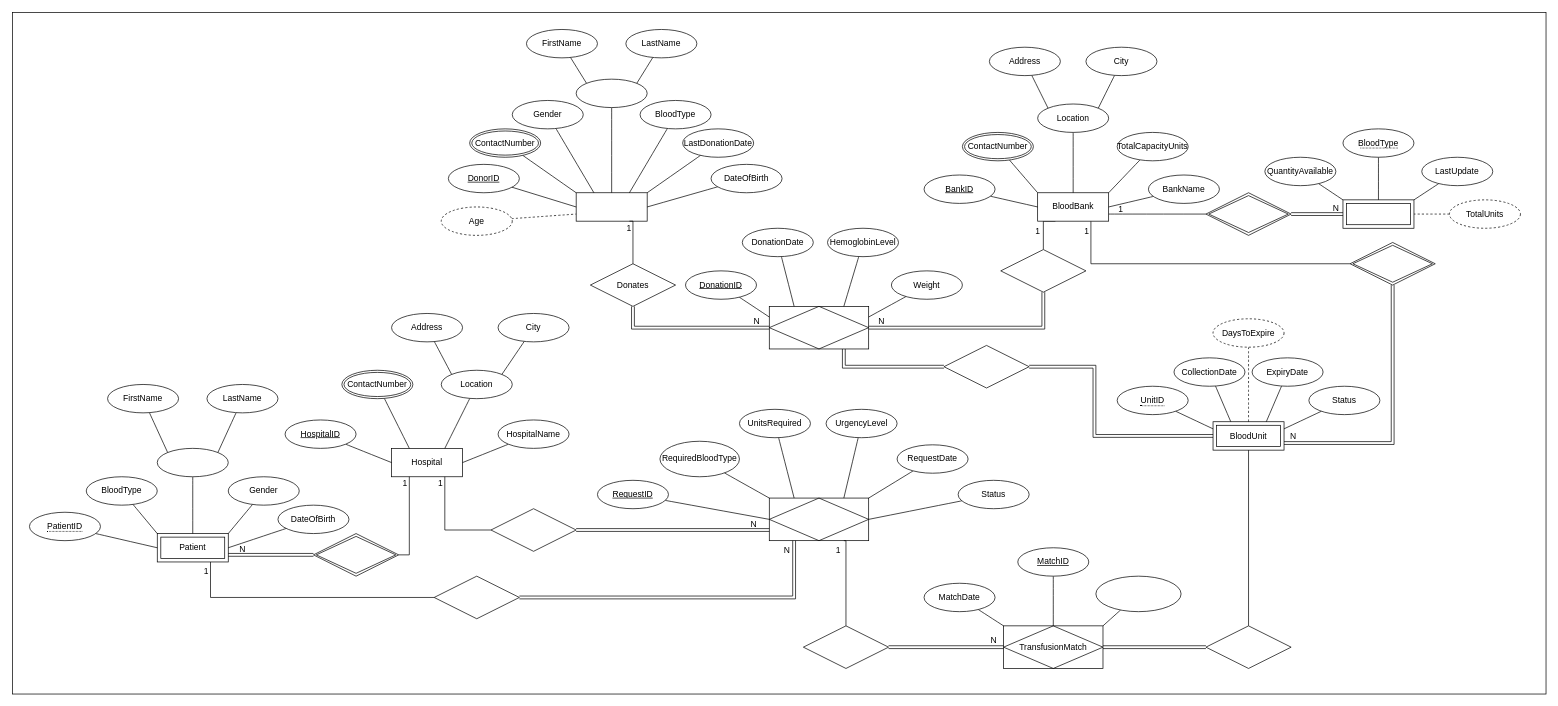
Image size: 1558x706. Some labels were removed from this diagram. Each missing label, with the box of its shape:
Admits: (313, 533, 399, 576)
Assigned_To: (1205, 625, 1291, 668)
BloodInventory: (1342, 199, 1414, 228)
CompatabilityResult: (1095, 575, 1181, 612)
DonationEvent: (769, 306, 869, 349)
Donor: (575, 192, 647, 221)
Hosts: (1000, 249, 1086, 292)
Issues: (490, 508, 576, 551)
Manages: (1349, 242, 1435, 285)
Name: (575, 78, 647, 108)
PatientName: (157, 448, 228, 477)
Produces: (943, 345, 1029, 388)
Requests: (433, 575, 519, 619)
Results_In: (803, 625, 889, 668)
Tracks: (1205, 192, 1291, 235)
TransfusionRequest: (769, 497, 869, 541)
